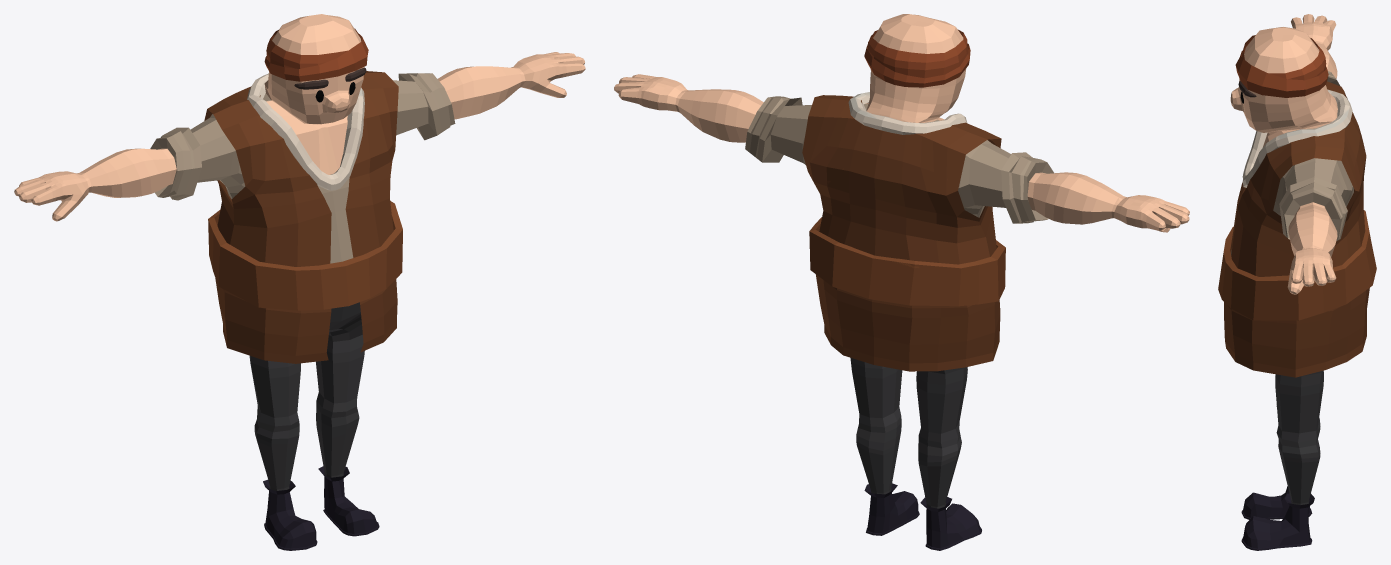
File: src.glb
The picture shows the model from 3 angles, left to right: view 1: azimuth 30°, elevation 25°; view 2: azimuth 150°, elevation 25°; view 3: azimuth 270°, elevation 25°; orthographic projection. The views are drawn at different scales.
Visible parts, largest first — view 1: body_5, clothes_7, belt_9, collar_8, cloth2_0, cloth_6; view 2: body_5, clothes_7, belt_9, cloth_6, collar_8, cloth2_0; view 3: body_5, clothes_7, belt_9, collar_8, cloth2_0, cloth_6.
Part boxes in pixels (x1,y1,x2,y2): body_5: (14, 14, 585, 550); clothes_7: (204, 71, 398, 363); belt_9: (208, 201, 402, 310); collar_8: (247, 73, 364, 190); cloth2_0: (264, 34, 368, 81); cloth_6: (266, 28, 361, 68); body_5: (614, 14, 1189, 550); clothes_7: (802, 95, 1001, 371); belt_9: (809, 217, 1005, 306); cloth_6: (867, 29, 968, 78); collar_8: (848, 92, 967, 134); cloth2_0: (864, 35, 970, 87); body_5: (1230, 14, 1353, 550); clothes_7: (1224, 81, 1369, 377); belt_9: (1218, 210, 1376, 320); collar_8: (1242, 89, 1352, 187); cloth2_0: (1235, 50, 1328, 97); cloth_6: (1241, 35, 1326, 80).
Bounding box in the file's own units: 4.62 × 3.95 × 1.16.
1 material, 1 textured.
